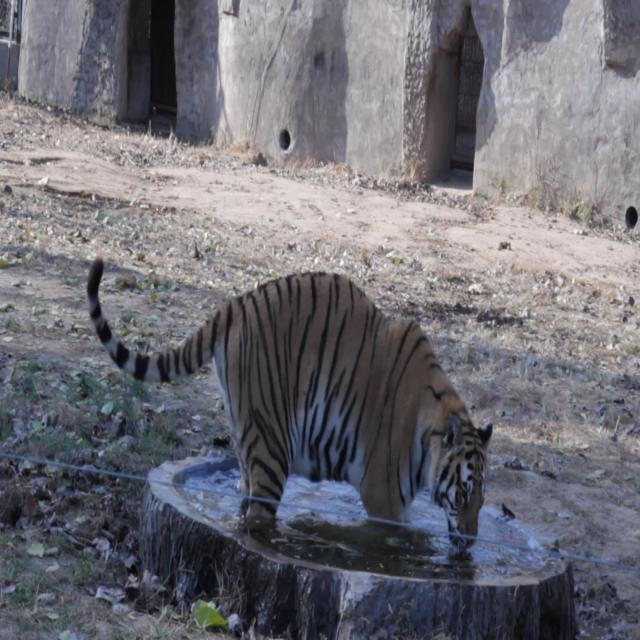Tiger: (83, 205, 507, 570)
